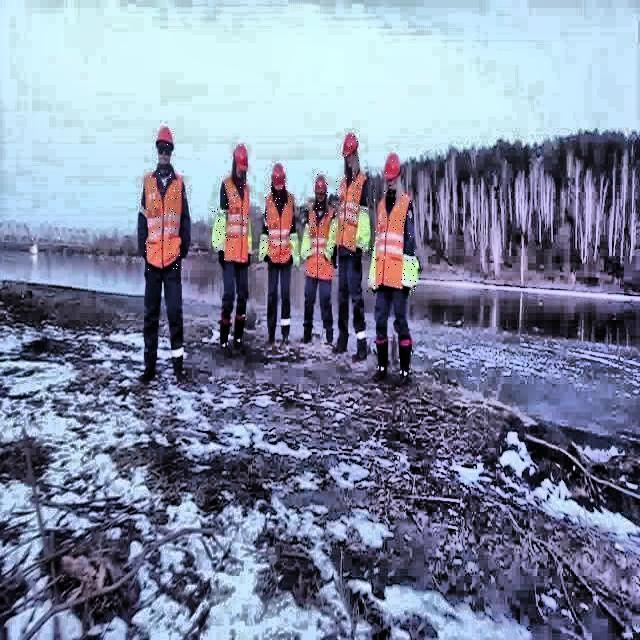safety_helmet: (143, 169, 183, 270), (272, 160, 290, 190), (231, 143, 249, 172), (343, 130, 359, 162), (385, 149, 402, 178), (157, 122, 174, 150), (316, 174, 330, 194)
safety_jacket: (373, 190, 411, 290), (334, 173, 370, 255), (263, 192, 294, 266), (306, 203, 334, 277), (224, 182, 248, 264), (356, 193, 369, 252), (212, 207, 228, 252), (402, 251, 416, 292), (326, 217, 338, 263), (367, 247, 377, 293), (300, 226, 310, 266), (290, 230, 300, 260), (260, 232, 268, 264)
